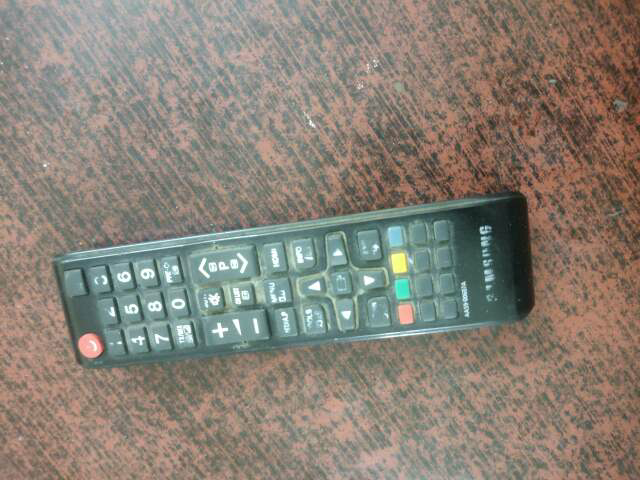remote: (44, 187, 545, 376)
